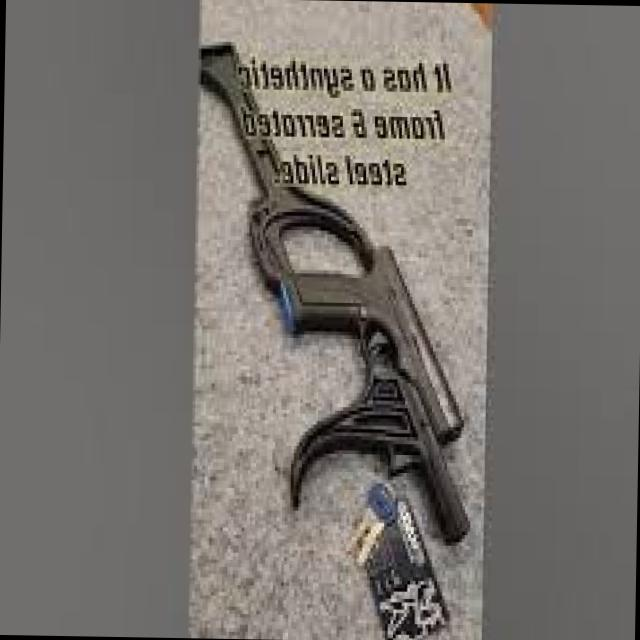Gun: (177, 22, 503, 596)
